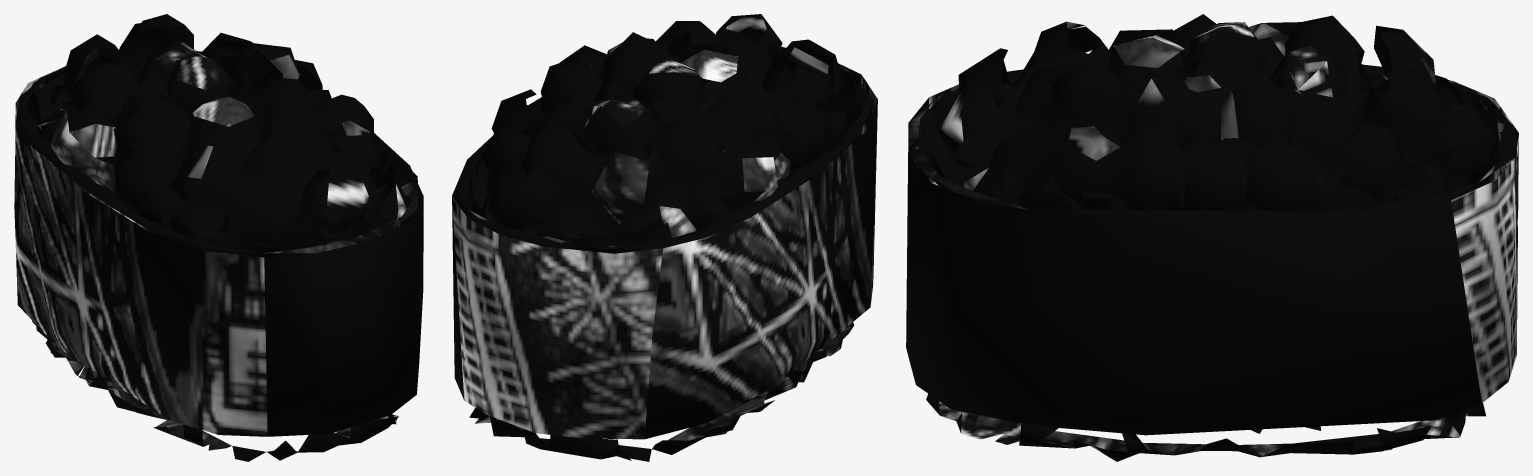
3 renders of one model, left to right at view 1: azimuth 30°, elevation 25°; view 2: azimuth 150°, elevation 25°; view 3: azimuth 270°, elevation 25°, orthographic. The views are drawn at different scales.
Parts seen in each view (by area): view 1: tripo_node_9f37003d-00e4-46ad-b435-aad72360b564.002; view 2: tripo_node_9f37003d-00e4-46ad-b435-aad72360b564.002; view 3: tripo_node_9f37003d-00e4-46ad-b435-aad72360b564.002.
Part boxes in pixels (x1=…): tripo_node_9f37003d-00e4-46ad-b435-aad72360b564.002: x1=14, y1=14, x2=423, y2=461; tripo_node_9f37003d-00e4-46ad-b435-aad72360b564.002: x1=452, y1=14, x2=877, y2=461; tripo_node_9f37003d-00e4-46ad-b435-aad72360b564.002: x1=906, y1=14, x2=1518, y2=461.
Bounding box in the file's own units: 62.87 × 64.74 × 99.25.
